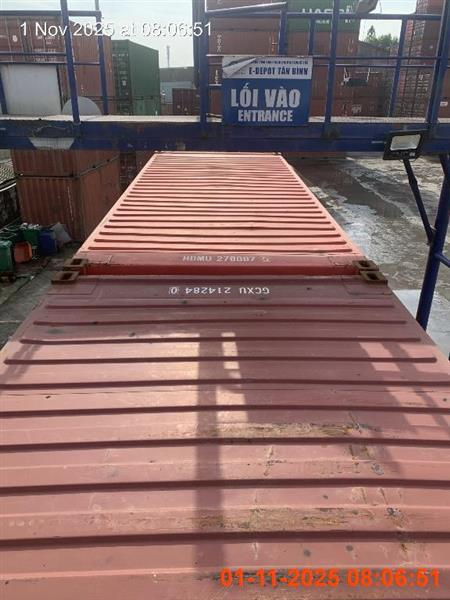broken: (1, 150, 448, 591)
